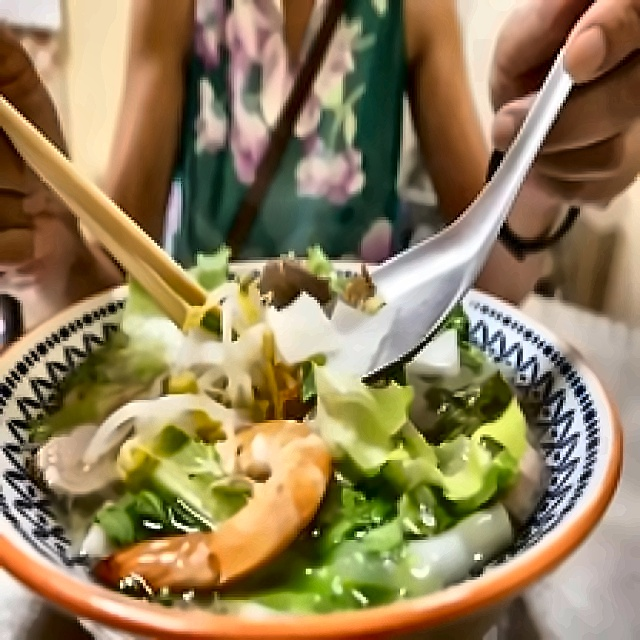noodle: (94, 292, 260, 478)
shrimp: (95, 420, 331, 591)
